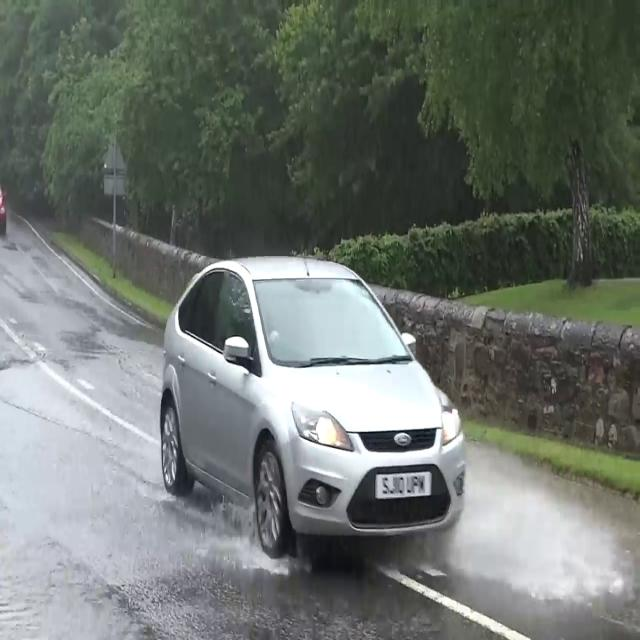license-plate-annotation: (376, 474, 431, 498)
